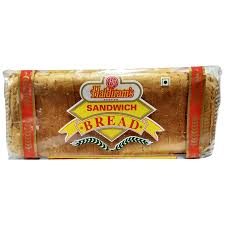bread: (5, 59, 220, 161)
